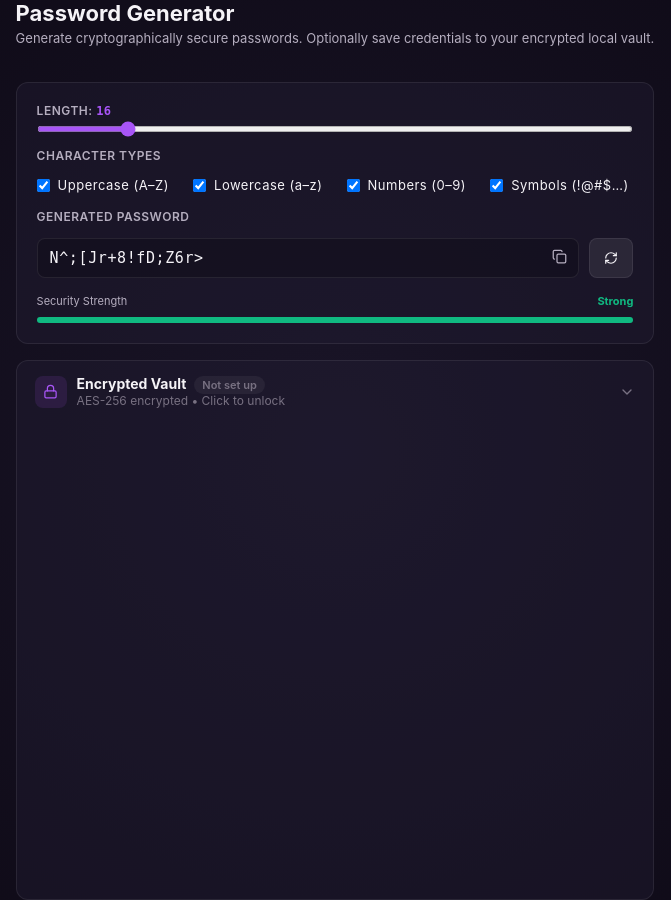
Scenario: PasswordManager Component › updates the password length when the slider is adjusted
The image size is (671, 900).
Set the slider to "24": (211, 129) x1=37 y1=126 x2=633 y2=132
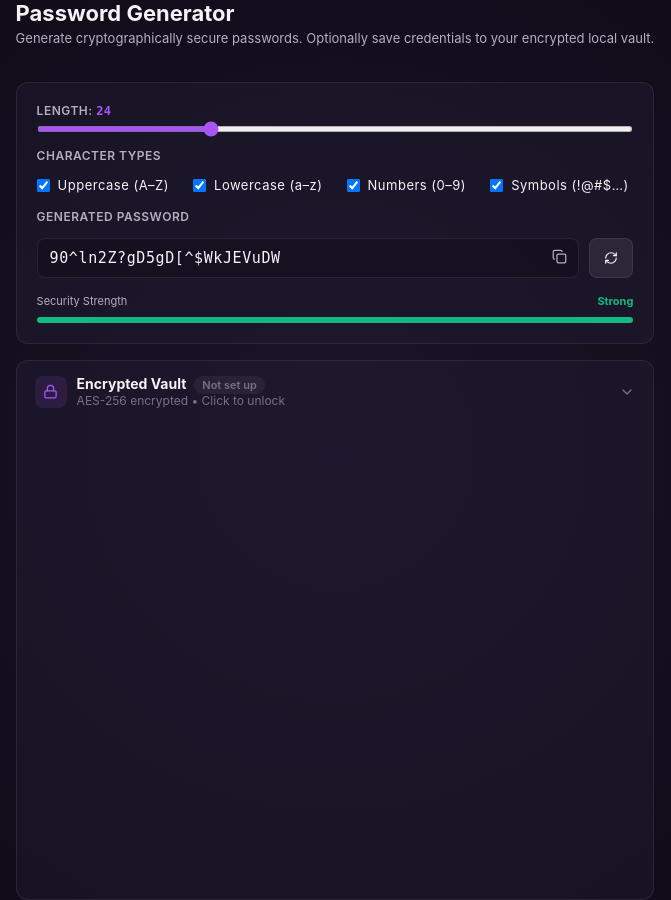
Result: the text "24" is shown at x1=96 y1=104 x2=112 y2=118
